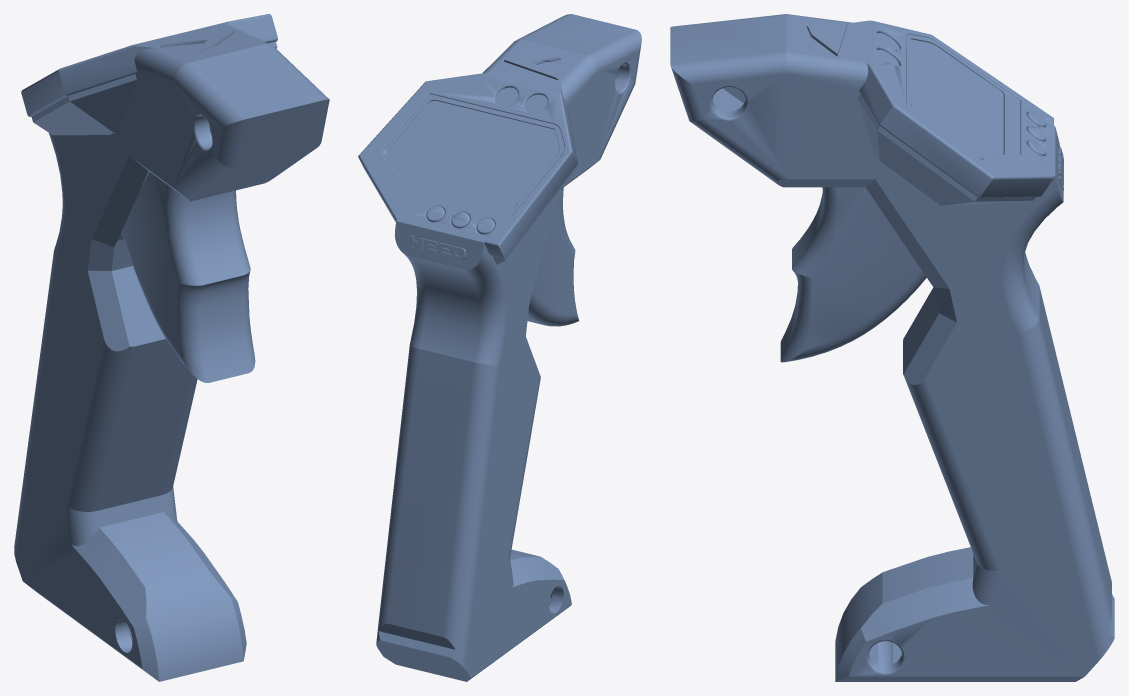
File: joystick.glb
3 views of the same model, side by side, from view 1: azimuth 30°, elevation 25°; view 2: azimuth 150°, elevation 25°; view 3: azimuth 270°, elevation 25° (orthographic). The views are drawn at different scales.
Parts seen in each view (by area): view 1: Body1, Body2; view 2: Body1, Body2; view 3: Body1, Body2.
Part boxes in pixels (x1,y1,x2,y2): Body1: (14,14,329,681); Body2: (121,171,255,382); Body1: (358,14,641,681); Body2: (527,187,578,326); Body1: (670,14,1114,681); Body2: (780,187,926,362).
Bounding box in the file's own units: 0.0045 × 0.0122 × 0.00785.
